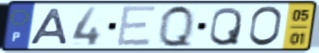4: (69, 5, 105, 48)
A: (28, 7, 71, 46)
E: (114, 4, 158, 49)
O: (246, 5, 284, 48)
Q: (158, 3, 196, 50), (207, 5, 244, 48)
